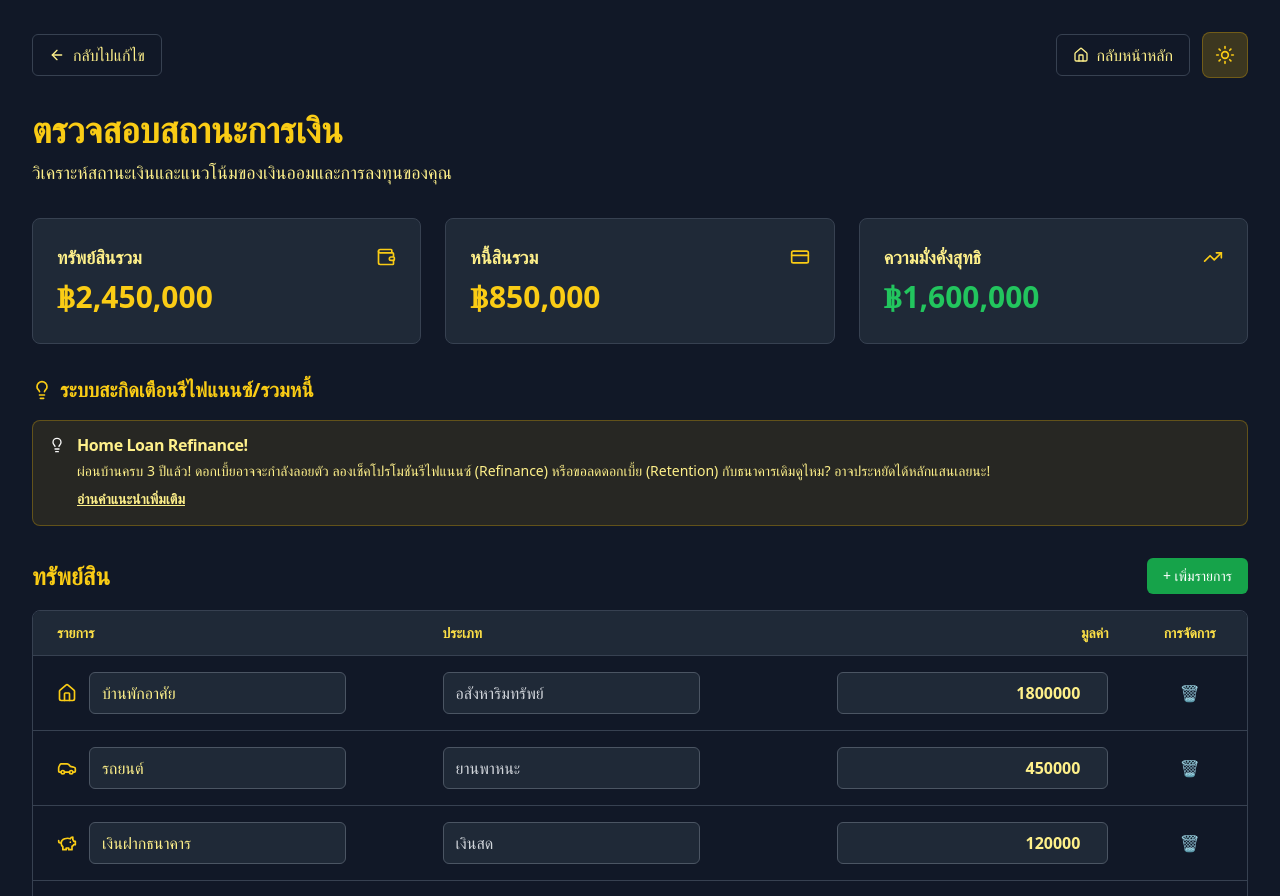
Test: FinancialStatusPage › allows adding a new asset
This screenshot has width=1280, height=896.
Click the button "+ เพิ่มรายการ". click: (1197, 576)
box: [1147,558,1248,594]
(page scrolled)
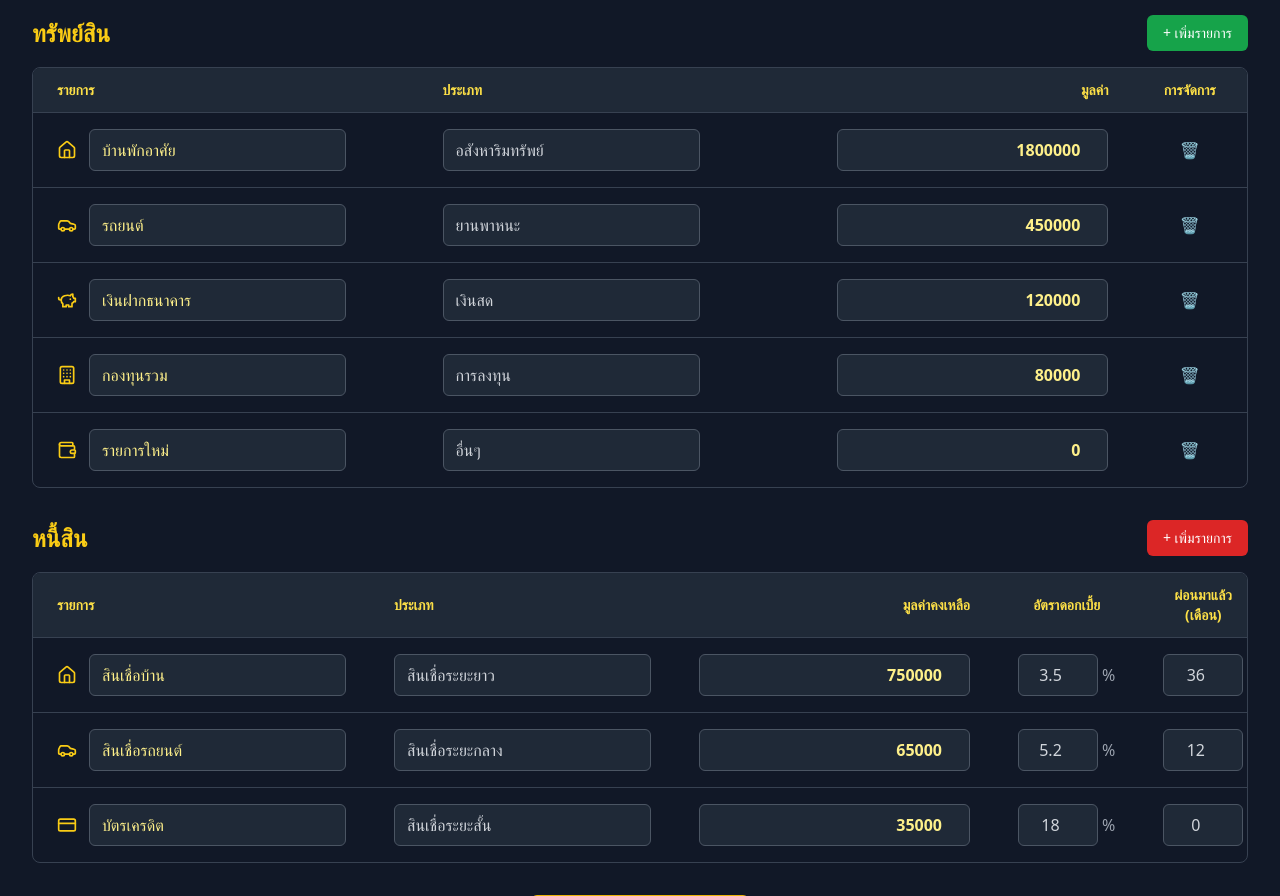
Expected: the 9th field showing "รายการใหม่" is shown, [89,429,346,471]
